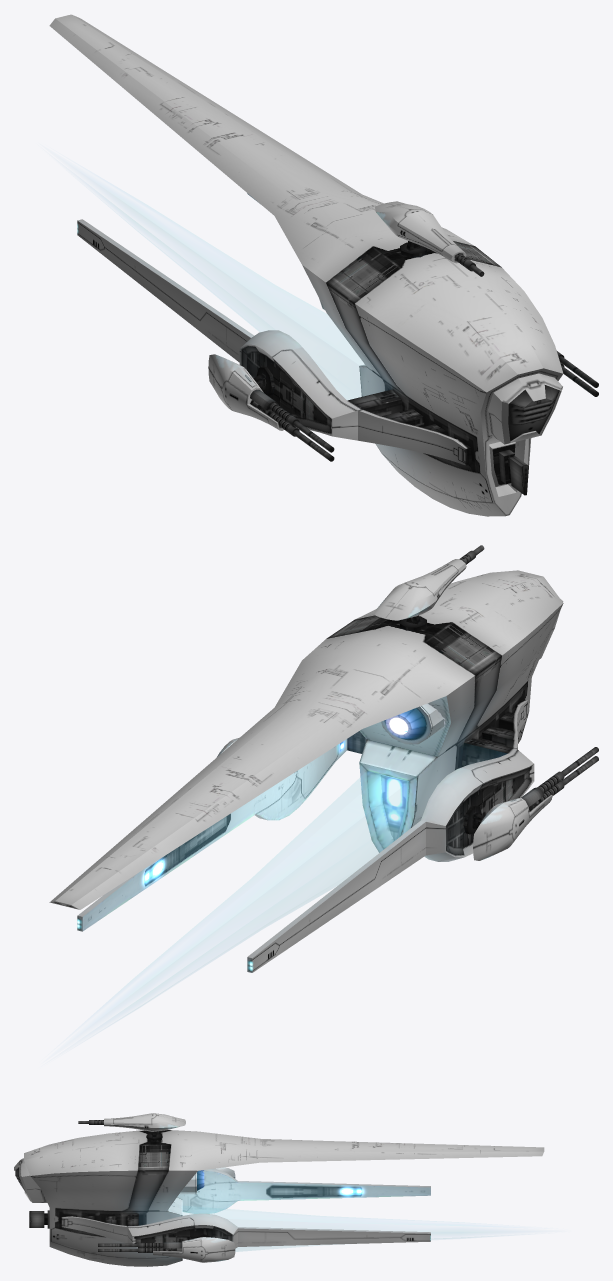
Rendered from drone.gltf.
3 views of the same model, one above another, from view 1: azimuth 30°, elevation 25°; view 2: azimuth 150°, elevation 25°; view 3: azimuth 270°, elevation 25° (orthographic). The views are drawn at different scales.
Parts seen in each view (by area): view 1: base_glow, glow; view 2: base_glow, glow; view 3: base_glow, glow.
Part boxes in pixels (x1,y1,x2,y2): base_glow: [49, 14, 598, 516]; glow: [102, 187, 363, 399]; base_glow: [49, 545, 598, 972]; glow: [110, 770, 408, 1017]; base_glow: [14, 1113, 544, 1266]; glow: [183, 1206, 497, 1251].
Bounding box in the file's own units: 48.19 × 42.82 × 151.
2 materials, 2 textured.
